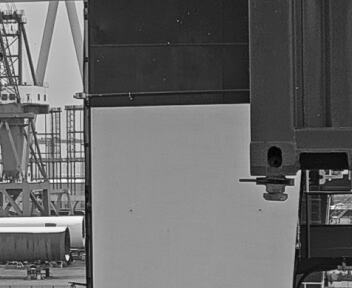twist_lock_1: (249, 170, 300, 210)
